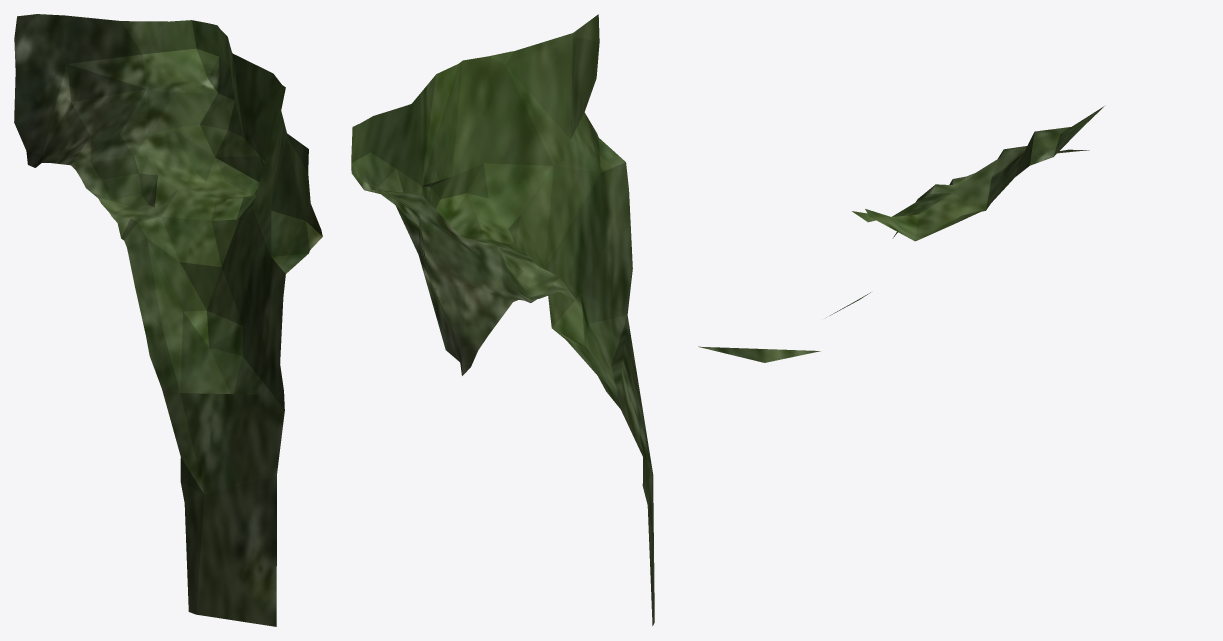
3 views of the same model, side by side, from view 1: azimuth 30°, elevation 25°; view 2: azimuth 150°, elevation 25°; view 3: azimuth 270°, elevation 25° (orthographic). The views are drawn at different scales.
Size of the model in its own units: 0.9357 by 2.95 by 2.41.
2 materials, 2 textured.
